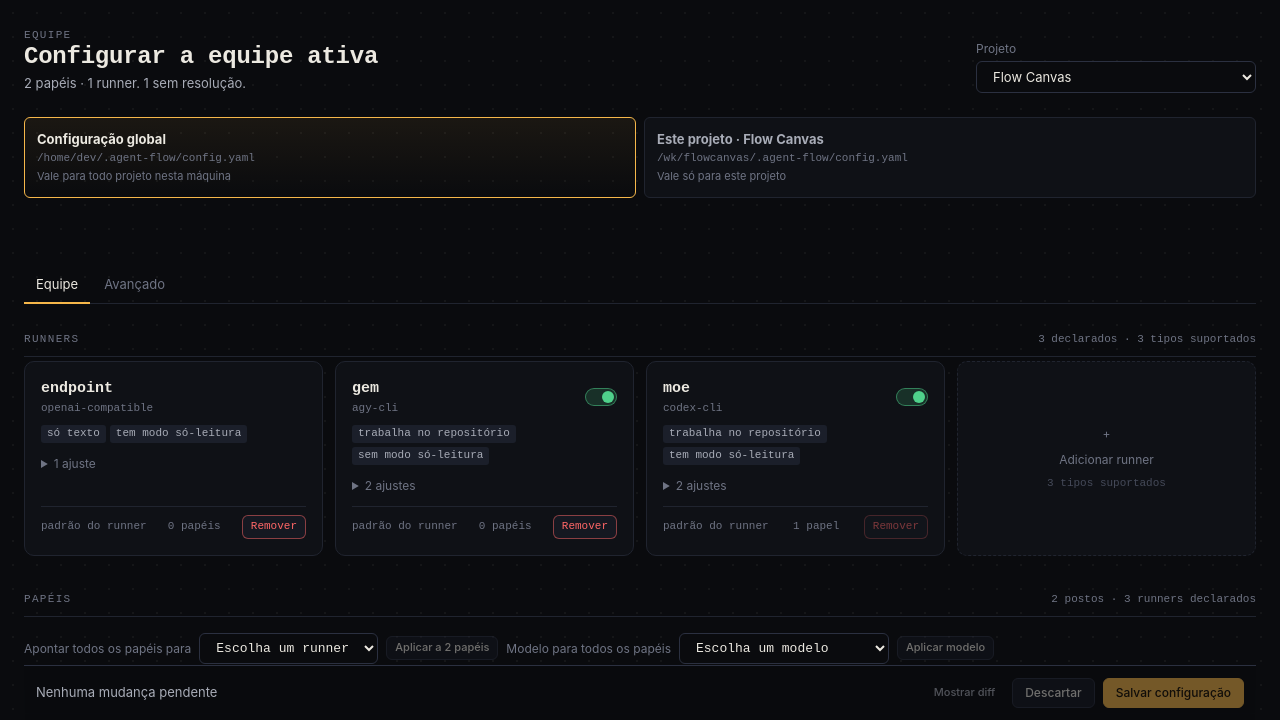
CrewPage configuration workflow › warns when a runner is switched off with routes still pointing at it
expect the dropdown labelled "Apontar todos os papéis para" is shown: met, box left=199, top=633, right=378, bottom=664
Click the switch in the row of "codex-cli". click: point(912, 397)
box: left=896, top=388, right=928, bottom=406
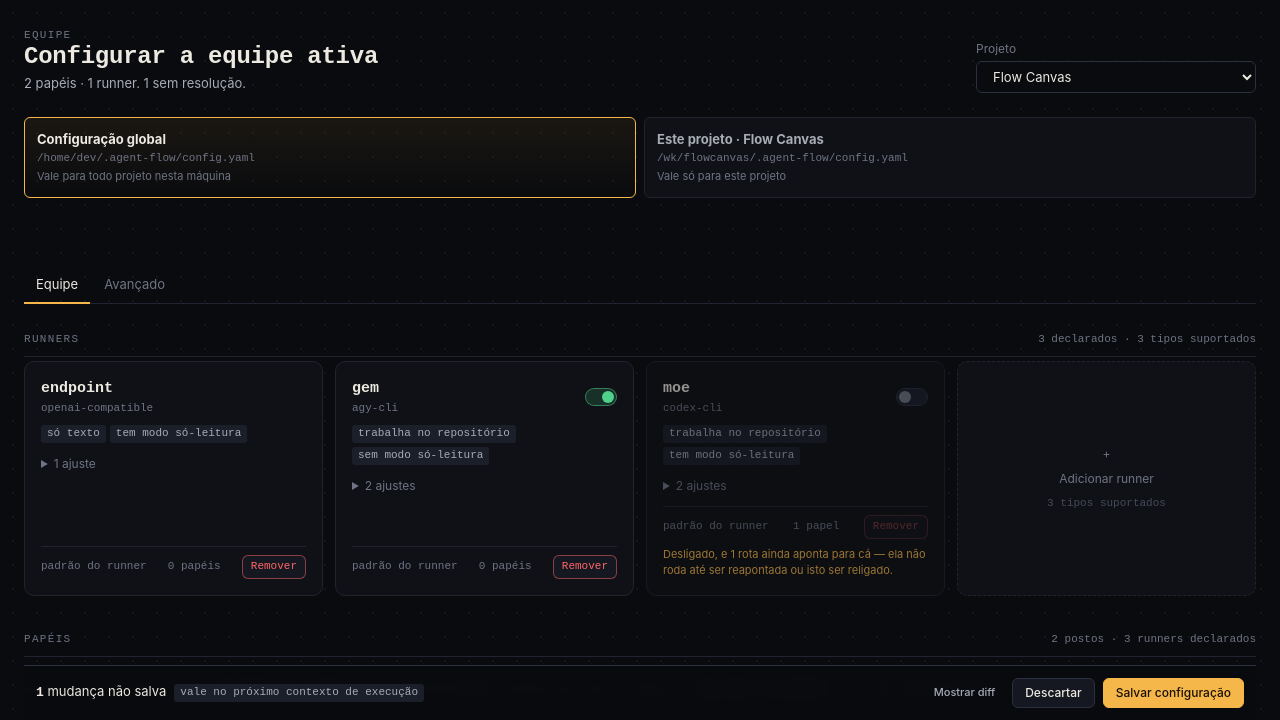
expect the text "Desligado, e 1 rota ainda aponta para cá — ela não roda até ser reapontada ou isto ser religado." is shown: met, box left=663, top=547, right=926, bottom=577
